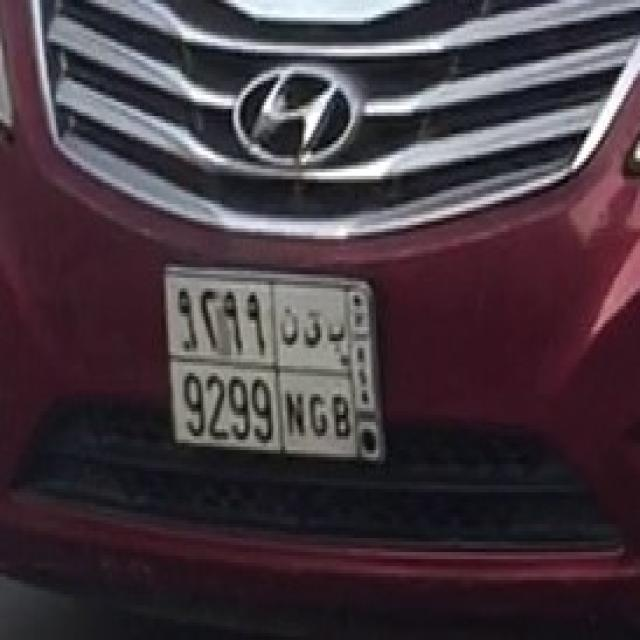Car-plate: (145, 227, 412, 483)
